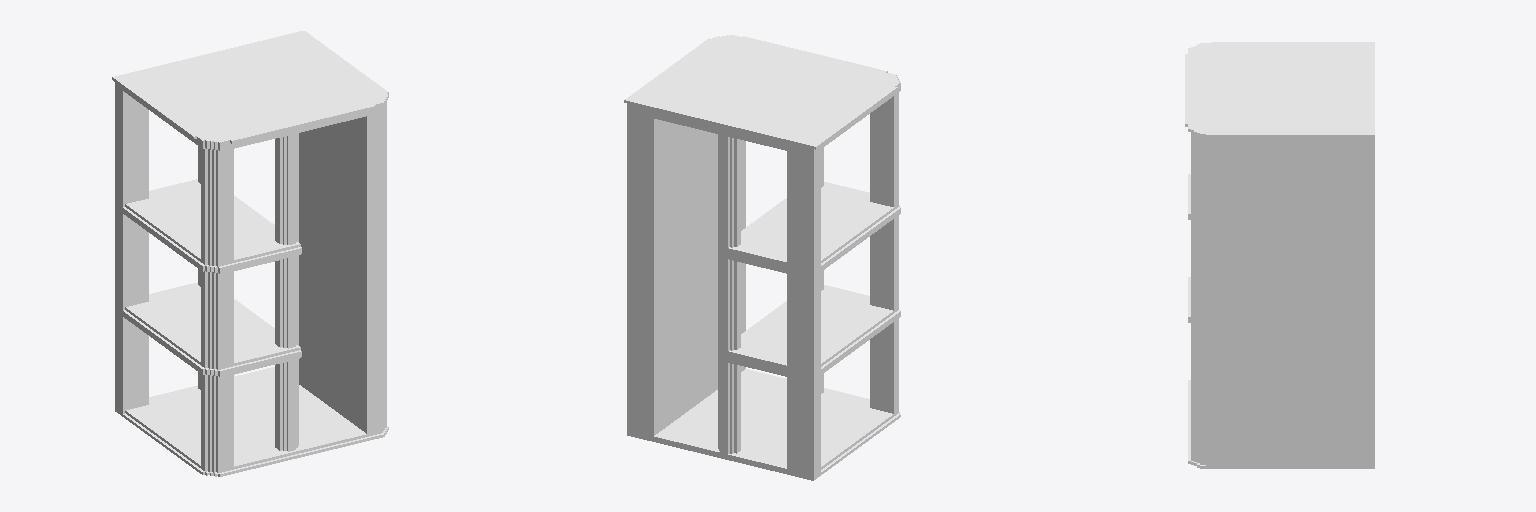
File: bureau_mobilier-3.obj
3 renders of one model, left to right at view 1: azimuth 30°, elevation 25°; view 2: azimuth 150°, elevation 25°; view 3: azimuth 270°, elevation 25°, orthographic.
Parts seen in each view (by area): view 1: object 1; view 2: object 1; view 3: object 1.
Part boxes in pixels (x1,y1,x2,y2): object 1: (112, 31, 388, 476); object 1: (624, 35, 900, 480); object 1: (1185, 42, 1374, 468).
Bounding box in the file's own units: 7.2 × 12 × 6.2.